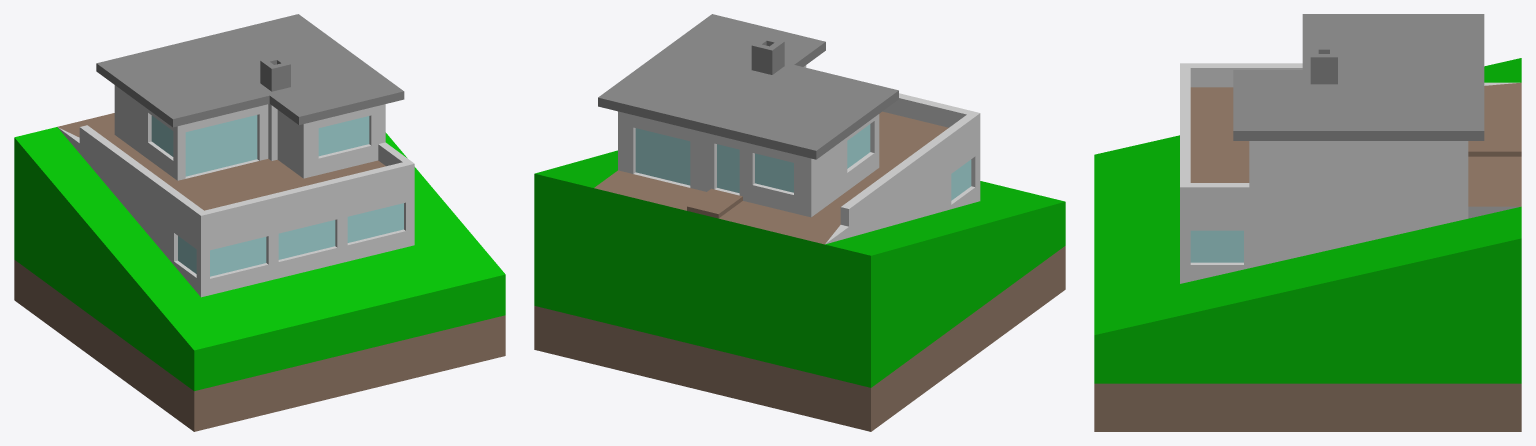
The model's file is CasaColina.fbx.
3 renders of one model, left to right at view 1: azimuth 30°, elevation 25°; view 2: azimuth 150°, elevation 25°; view 3: azimuth 270°, elevation 25°, orthographic. The views are drawn at different scales.
Parts seen in each view (by area): view 1: CasaColina; view 2: CasaColina; view 3: CasaColina.
Part boxes in pixels (x1=…): CasaColina: x1=14, y1=14, x2=505, y2=431; CasaColina: x1=534, y1=14, x2=1065, y2=431; CasaColina: x1=1094, y1=14, x2=1521, y2=431.
Size of the model in its own units: 8 by 6.26 by 8.
